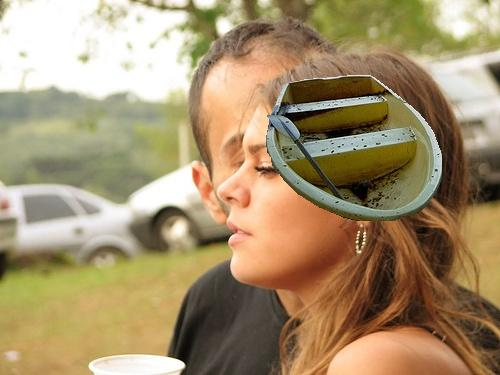tampered: (267, 76, 442, 221)
